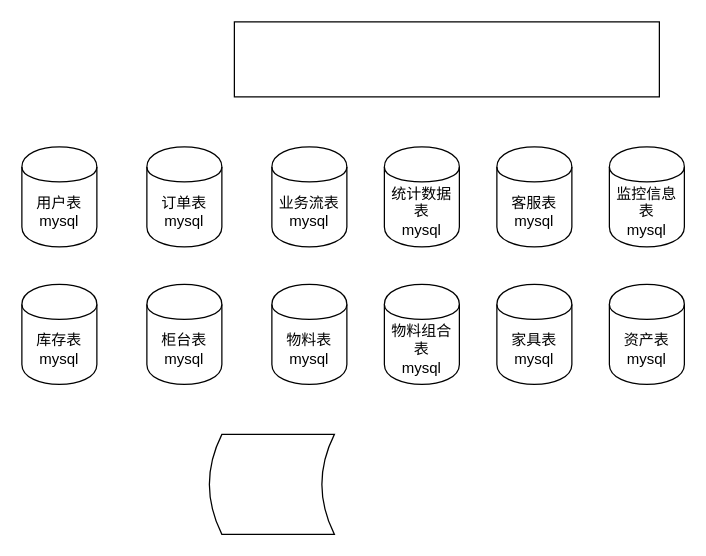
Image size: 706x556. Some labels were removed from this diagram. Each missing label, with the box of its shape:
2000种物料*每种物料500件=100万条记录: (233, 21, 659, 97)
缓存 Redis: (208, 433, 334, 534)
